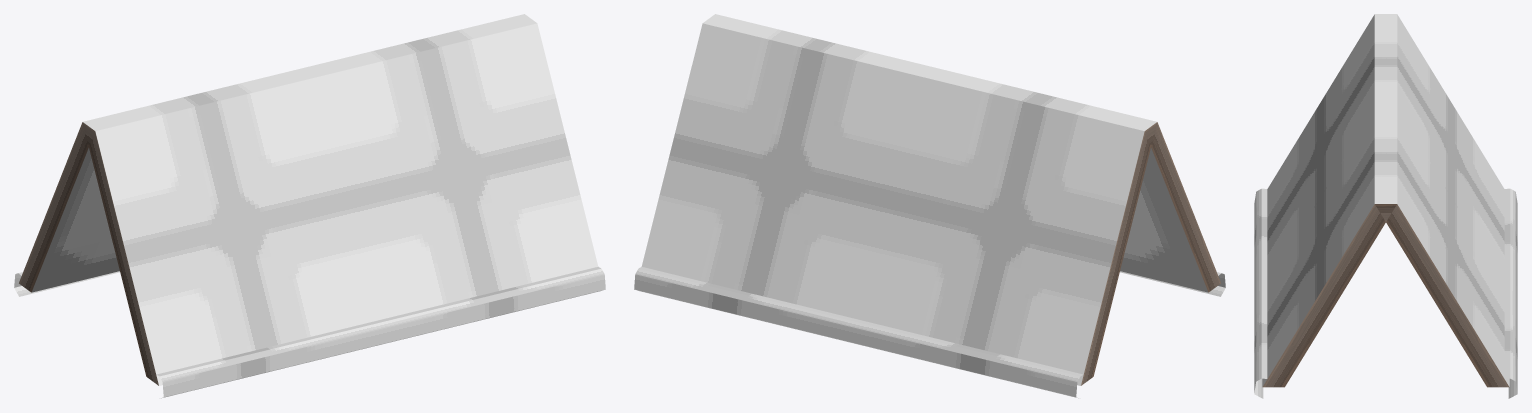
Rendered from SM_Roof_Top_02.fbx.
The picture shows the model from 3 angles, left to right: view 1: azimuth 30°, elevation 25°; view 2: azimuth 150°, elevation 25°; view 3: azimuth 270°, elevation 25°; orthographic projection. The views are drawn at different scales.
Visible parts, largest first — view 1: SM_Roof_Top_02; view 2: SM_Roof_Top_02; view 3: SM_Roof_Top_02.
Part boxes in pixels (<box>): SM_Roof_Top_02: <box>14,14,605,398</box>; SM_Roof_Top_02: <box>634,14,1225,398</box>; SM_Roof_Top_02: <box>1254,14,1517,398</box>.
Bounding box in the file's own units: 1000 × 586 × 479.
